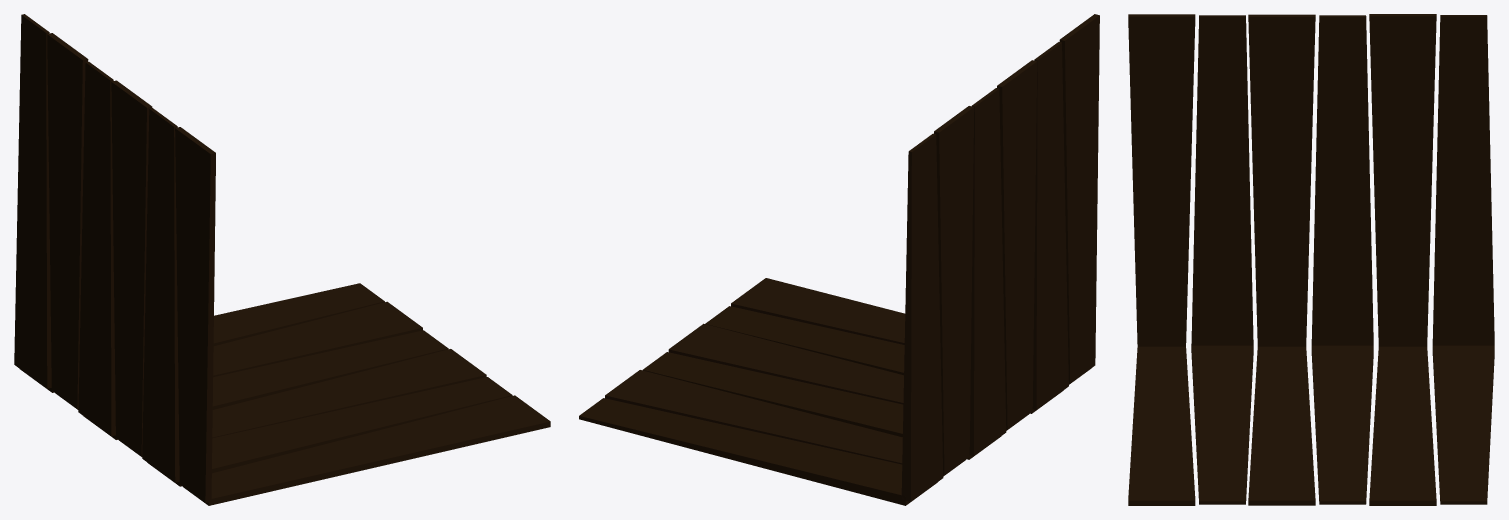
File: WallWithFloor.fbx
The picture shows the model from 3 angles, left to right: view 1: azimuth 30°, elevation 25°; view 2: azimuth 150°, elevation 25°; view 3: azimuth 270°, elevation 25°; orthographic projection. The views are drawn at different scales.
Visible parts, largest first — view 1: Wall; view 2: Wall; view 3: Wall.
Boxes of the visible parts, x1,y1,x2,y2 form: Wall: (14,14,550,505); Wall: (579,14,1099,505); Wall: (1128,14,1494,505).
Size of the model in its own units: 1219 by 1219 by 1200.
